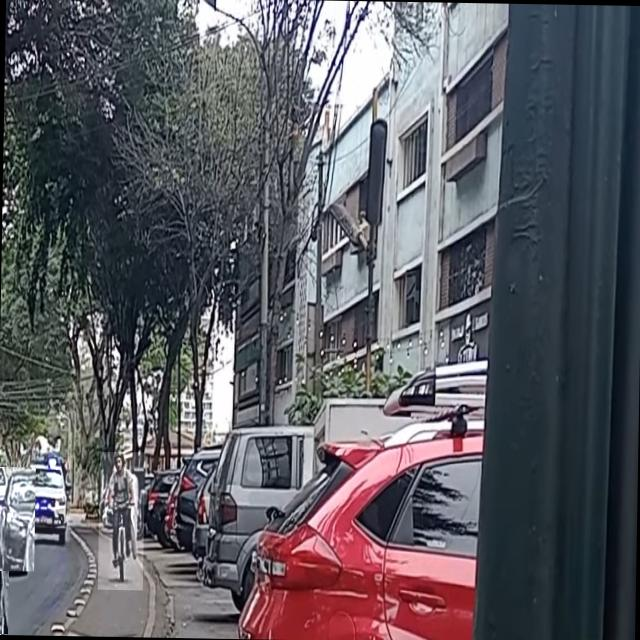car: (98, 451, 144, 590), (21, 455, 70, 545), (0, 466, 35, 571), (0, 444, 10, 633)
